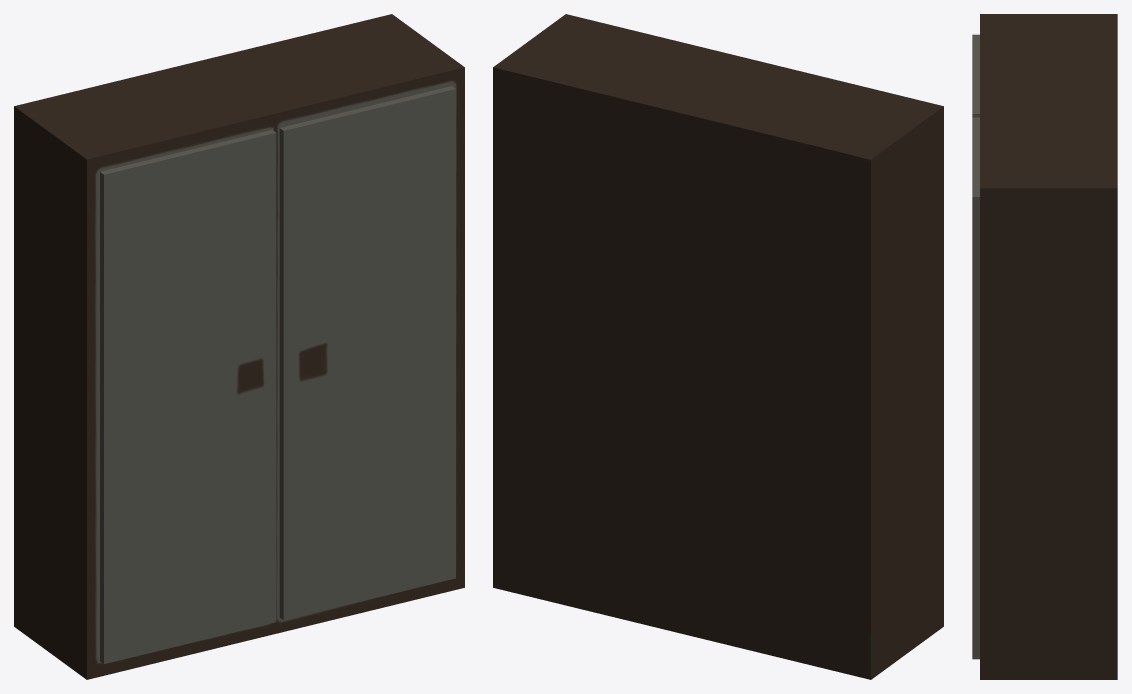
Rendered from Ropero.fbx.
3 renders of one model, left to right at view 1: azimuth 30°, elevation 25°; view 2: azimuth 150°, elevation 25°; view 3: azimuth 270°, elevation 25°, orthographic. The views are drawn at different scales.
Parts seen in each view (by area): view 1: ropero(mapeado)(texturizado); view 2: ropero(mapeado)(texturizado); view 3: ropero(mapeado)(texturizado).
Boxes of the visible parts, x1=… form: ropero(mapeado)(texturizado): x1=14, y1=14, x2=464, y2=679; ropero(mapeado)(texturizado): x1=493, y1=14, x2=943, y2=679; ropero(mapeado)(texturizado): x1=972, y1=14, x2=1117, y2=679.
Bounding box in the file's own units: 549 × 723 × 194.
